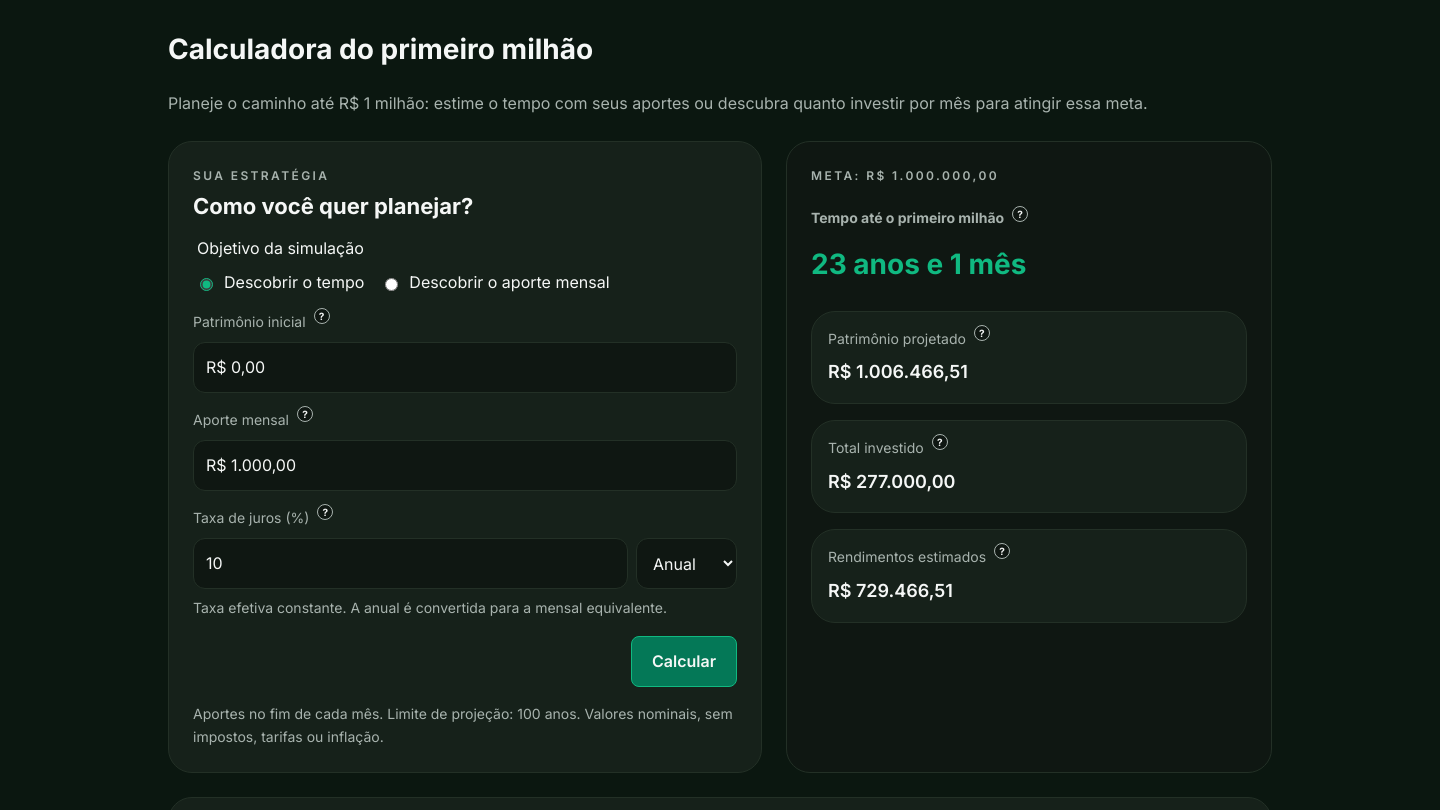
Test case: FirstMillionCalculator › updates the time with masked currency and decimal comma
Replace the text in the field labelled "Aporte mensal" with "10000000" at (465, 466), box [193, 440, 737, 491]
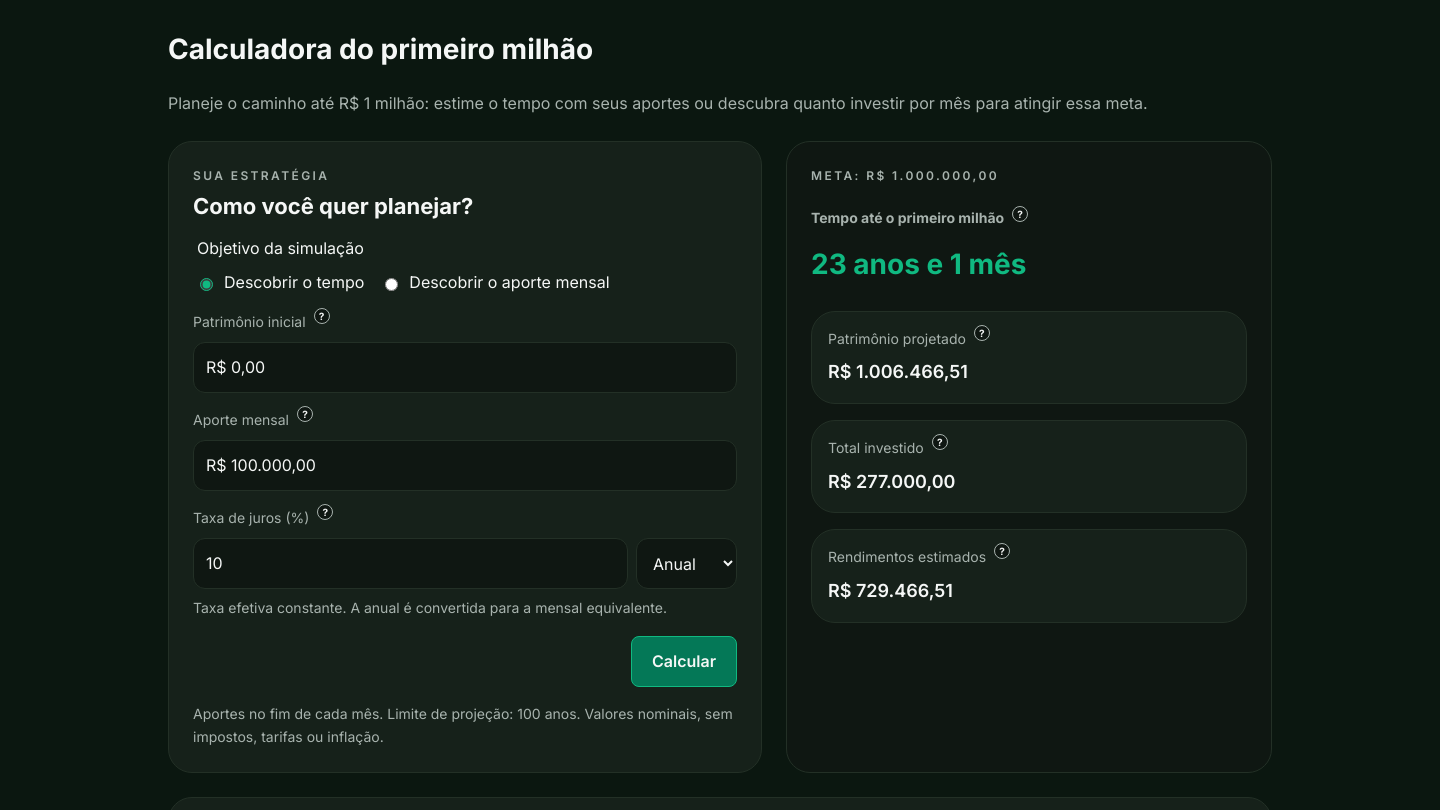
Replace the text in the field labelled "Taxa de juros (%)" with "0,0" at (410, 564), box [193, 538, 628, 589]
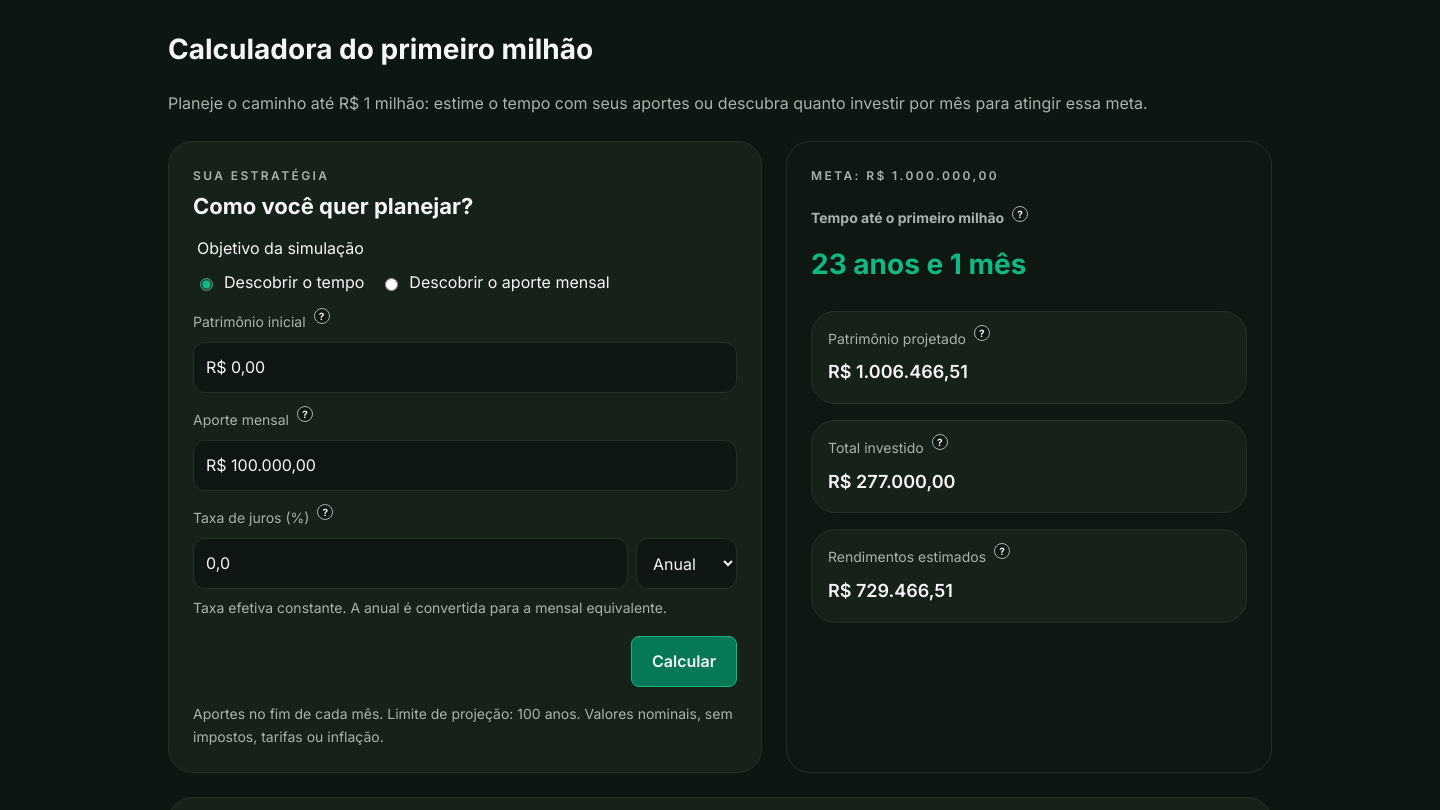
Expected: the text "10 meses" is not shown
Click the button "Calcular" at (684, 662), box [631, 636, 737, 687]
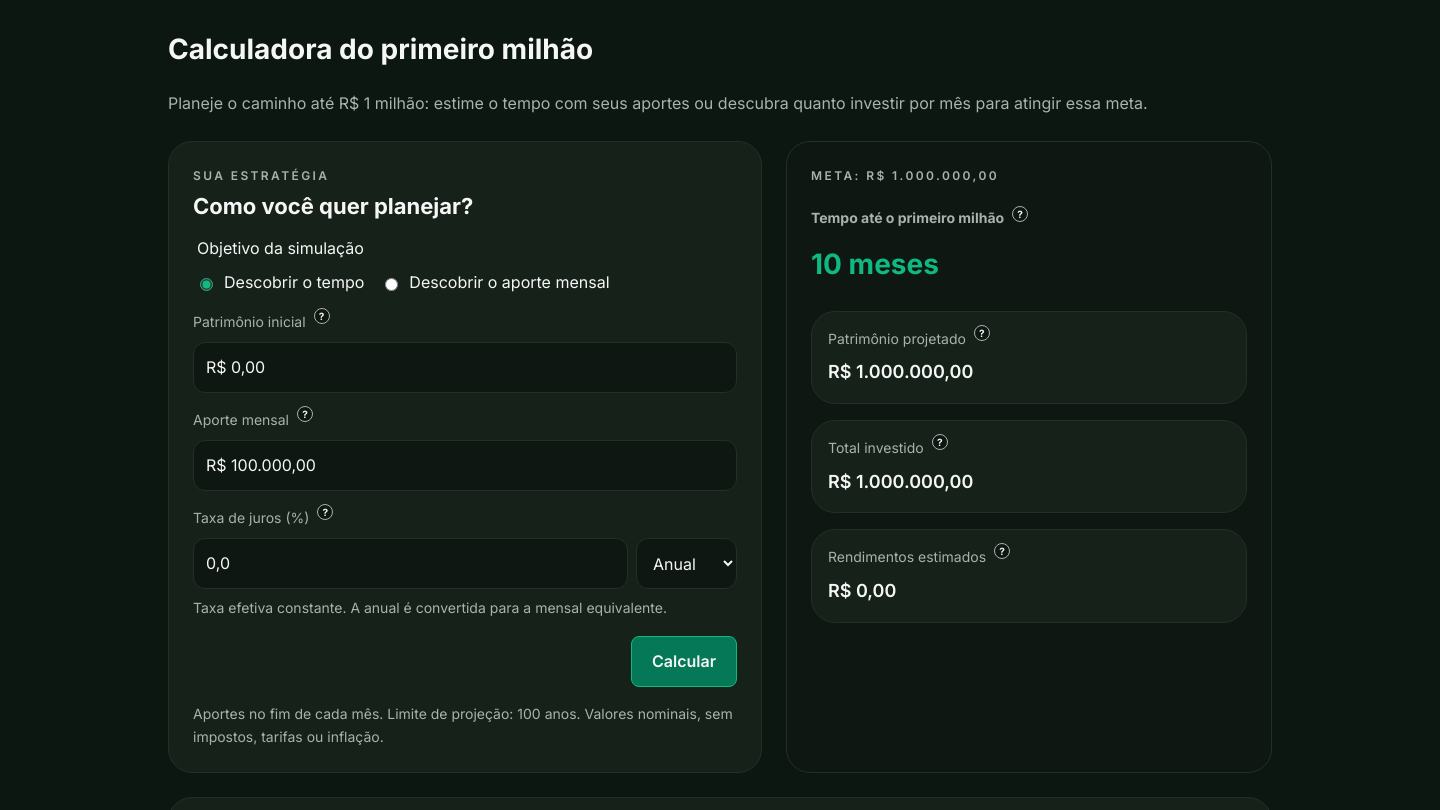
Expected: the text "10 meses" is shown, [811, 247, 939, 281]
